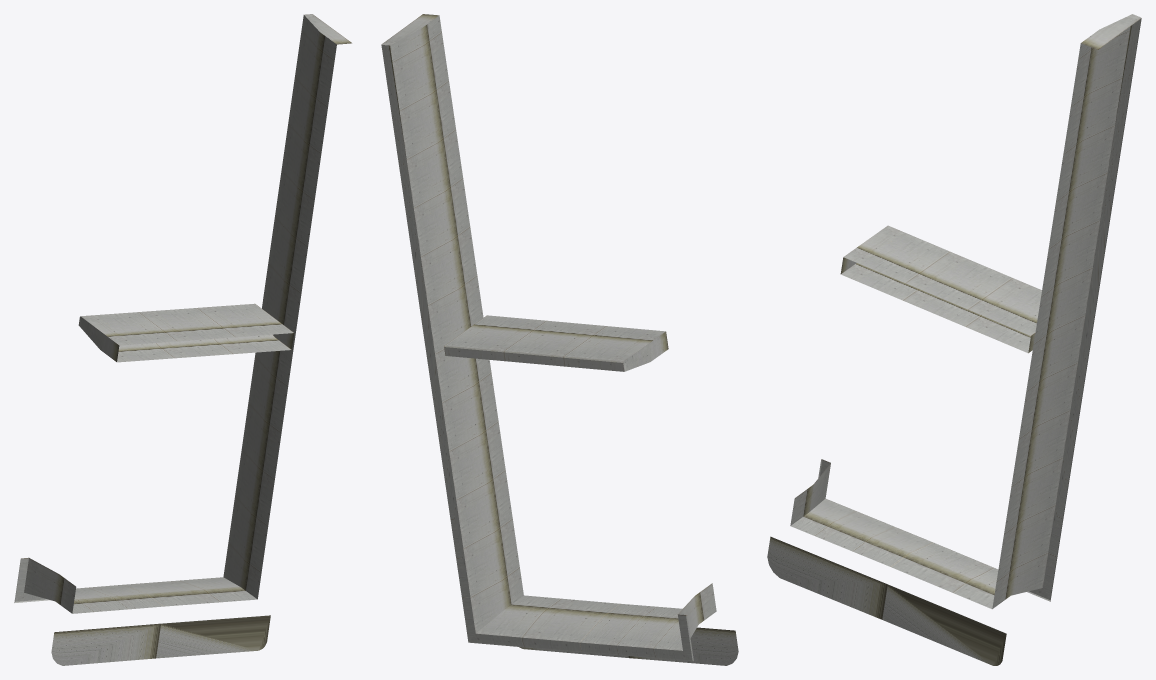
Rendered from _1WALL_small03_02_000_SUB1.obj.
3 views of the same model, side by side, from view 1: azimuth 30°, elevation 25°; view 2: azimuth 150°, elevation 25°; view 3: azimuth 330°, elevation 25° (orthographic). The views are drawn at different scales.
Parts seen in each view (by area): view 1: _1WALL_small03_02_000_SUB1_Scene.345; view 2: _1WALL_small03_02_000_SUB1_Scene.345; view 3: _1WALL_small03_02_000_SUB1_Scene.345.
Boxes of the visible parts, x1,y1,x2,y2 form: _1WALL_small03_02_000_SUB1_Scene.345: (14,14,351,665); _1WALL_small03_02_000_SUB1_Scene.345: (381,14,738,665); _1WALL_small03_02_000_SUB1_Scene.345: (767,14,1141,665).
Size of the model in its own units: 735 by 1367 by 178.
